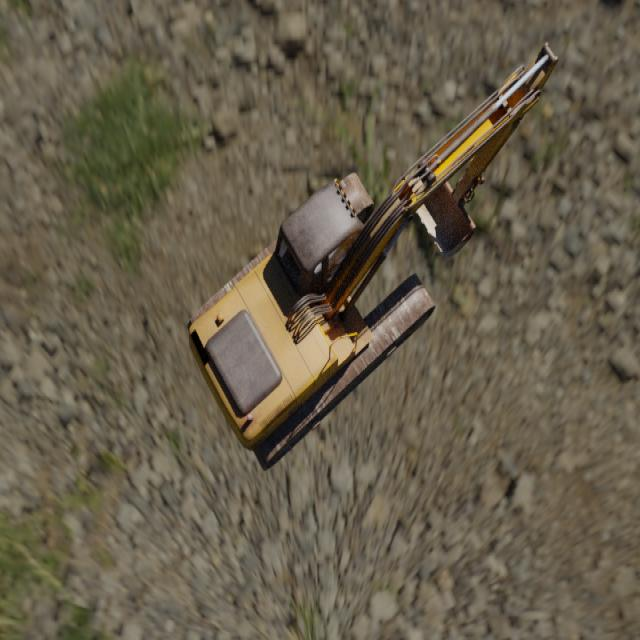excavator: (186, 41, 558, 471)
